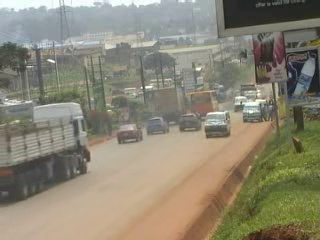Car: (114, 122, 144, 146), (178, 112, 204, 133), (145, 115, 170, 136)
